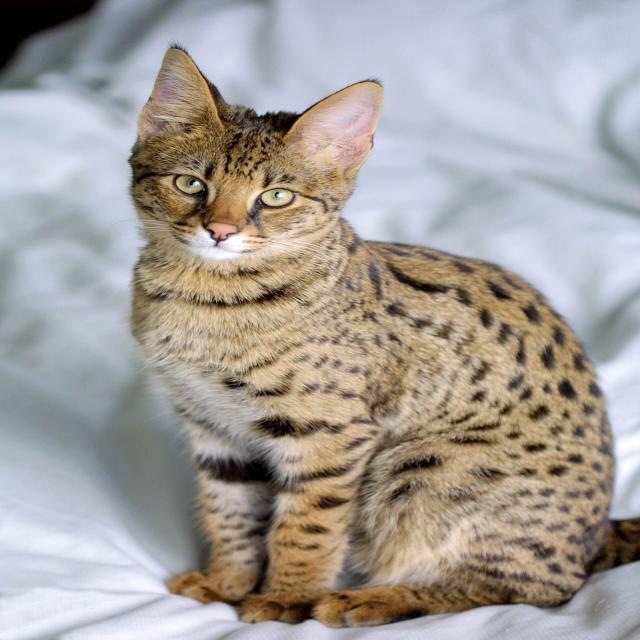Egyptian_Mau: (123, 42, 385, 287)
